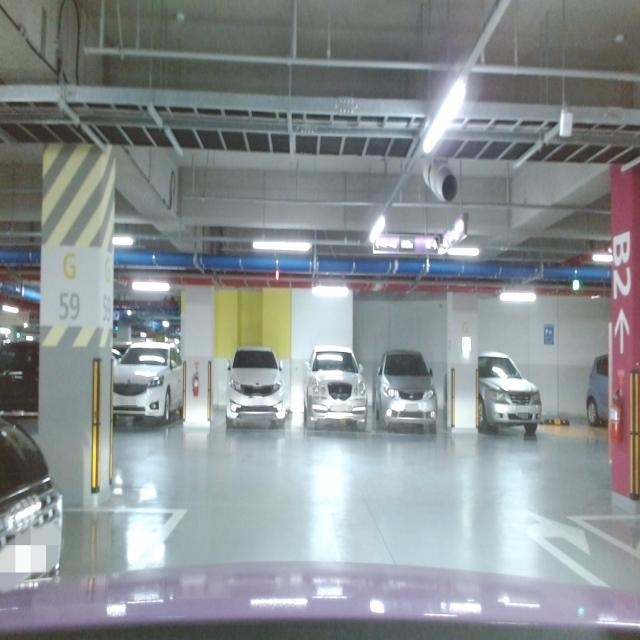empty: (545, 368, 608, 438)
occupied: (114, 340, 184, 436), (378, 352, 440, 436), (478, 362, 540, 444), (305, 356, 375, 424), (227, 356, 288, 432)
